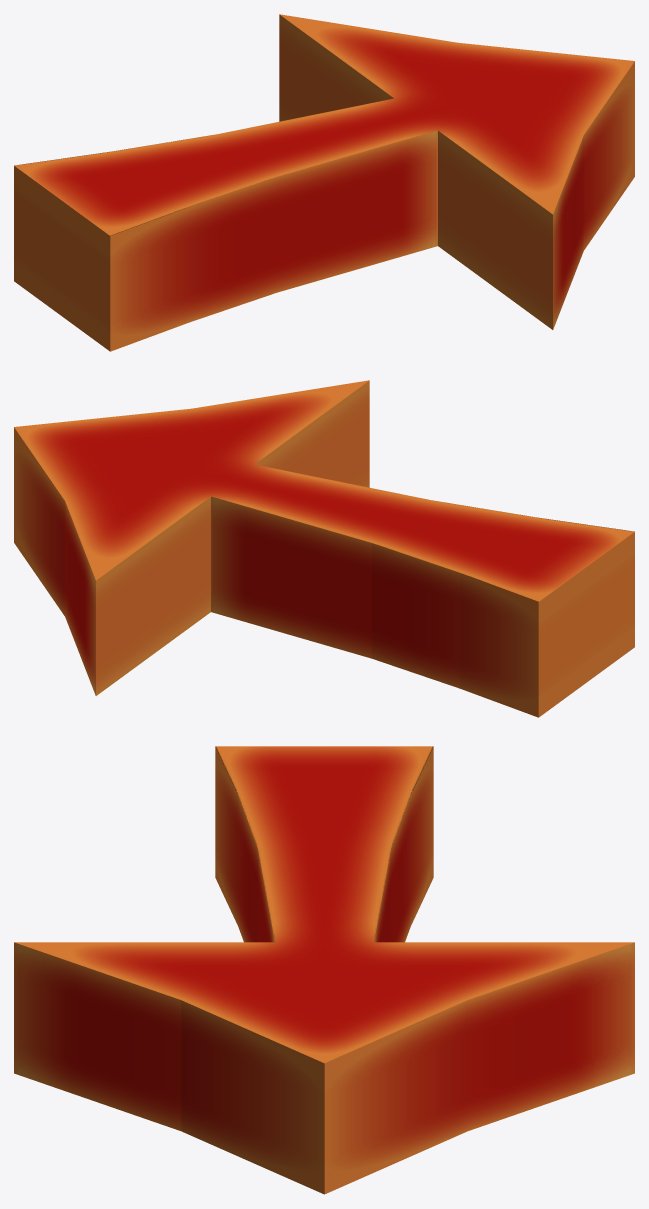
Rendered from arrow.fbx.
3 views of the same model, one above another, from view 1: azimuth 30°, elevation 25°; view 2: azimuth 150°, elevation 25°; view 3: azimuth 270°, elevation 25° (orthographic). The views are drawn at different scales.
Parts seen in each view (by area): view 1: arrow; view 2: arrow; view 3: arrow.
Part boxes in pixels (left/top/right/bottom): arrow: left=14, top=14, right=634, bottom=351; arrow: left=14, top=380, right=634, bottom=717; arrow: left=14, top=746, right=634, bottom=1194.
Bounding box in the file's own units: 2.12 × 0.4089 × 1.75.
